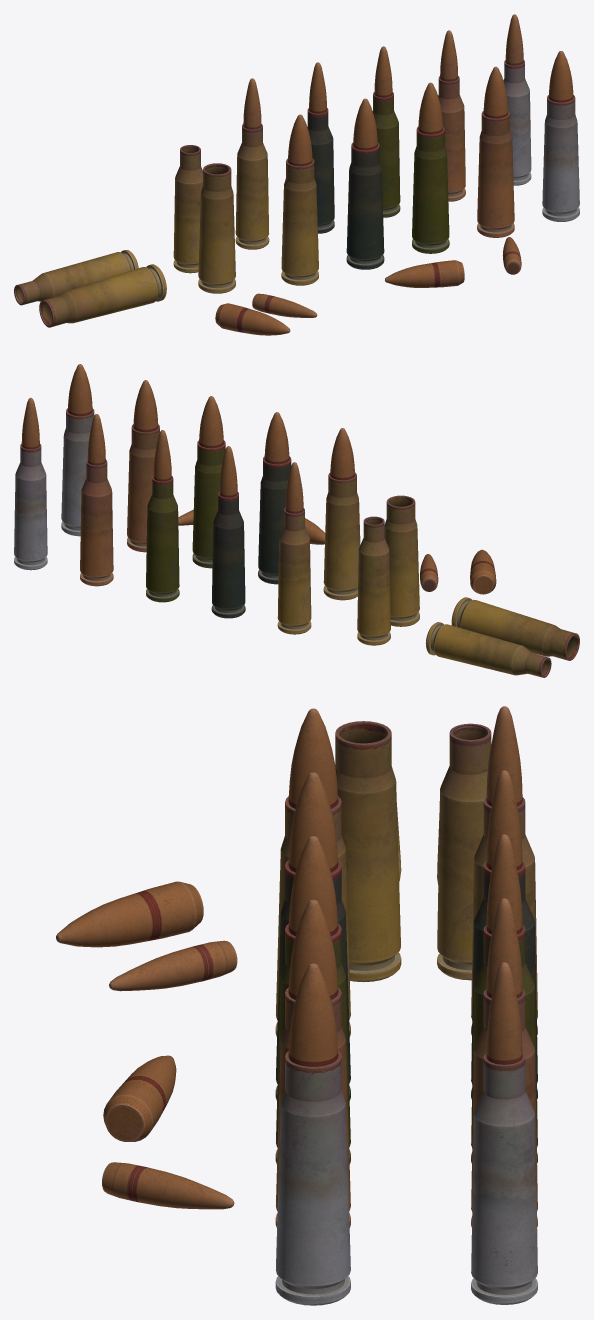
Rendered from ak_rounds_5.45x39_7.62x39.glb.
3 views of the same model, one above another, from view 1: azimuth 30°, elevation 25°; view 2: azimuth 150°, elevation 25°; view 3: azimuth 270°, elevation 25° (orthographic). The views are drawn at different scales.
Visible parts, largest first — view 1: 7_62_39mm_shell.002, 5_45_39mm_bullet.002, 7_62_39mm_shell.004, 7_62_39mm_shell, 7_62_39mm_shell.003, 7_62_39mm_shell.005, 7_62_39mm_shell.006, 5_45_39mm_shell, 5_45_39mm_shell.006, 5_45_39mm_shell.005, 5_45_39mm_shell.004, 5_45_39mm_shell.003; view 2: 7_62_39mm_shell.002, 5_45_39mm_bullet.002, 7_62_39mm_shell, 5_45_39mm_shell.004, 5_45_39mm_shell.006, 5_45_39mm_shell.005, 5_45_39mm_shell.003, 5_45_39mm_shell, 7_62_39mm_shell.003, 7_62_39mm_shell.004, 7_62_39mm_shell.005, 7_62_39mm_shell.006; view 3: 7_62_39mm_shell.002, 7_62_39mm_shell.006, 5_45_39mm_bullet.002, 5_45_39mm_shell.006, 7_62_39mm_shell, 7_62_39mm_shell.005, 7_62_39mm_shell.004, 7_62_39mm_shell.003, 5_45_39mm_shell.003, 5_45_39mm_shell.004, 5_45_39mm_shell.005, 5_45_39mm_shell.
Boxes of the visible parts, x1,y1,x2,y2 form: 7_62_39mm_shell.002: (39, 163, 464, 335); 5_45_39mm_bullet.002: (14, 145, 521, 317); 7_62_39mm_shell.004: (412, 82, 449, 253); 7_62_39mm_shell: (281, 114, 318, 285); 7_62_39mm_shell.003: (346, 98, 384, 269); 7_62_39mm_shell.005: (477, 66, 514, 237); 7_62_39mm_shell.006: (542, 51, 579, 221); 5_45_39mm_shell: (235, 78, 269, 249); 5_45_39mm_shell.006: (503, 14, 531, 185); 5_45_39mm_shell.005: (438, 30, 465, 201); 5_45_39mm_shell.004: (372, 46, 400, 217); 5_45_39mm_shell.003: (307, 62, 334, 233); 7_62_39mm_shell.002: (305, 495, 579, 660); 5_45_39mm_bullet.002: (178, 510, 551, 677); 7_62_39mm_shell: (323, 428, 360, 600); 5_45_39mm_shell.004: (146, 430, 179, 602); 5_45_39mm_shell.006: (14, 397, 47, 570); 5_45_39mm_shell.005: (80, 414, 113, 586); 5_45_39mm_shell.003: (211, 446, 245, 618); 5_45_39mm_shell: (277, 462, 311, 634); 7_62_39mm_shell.003: (258, 412, 291, 584); 7_62_39mm_shell.004: (192, 396, 225, 568); 7_62_39mm_shell.005: (127, 380, 159, 552); 7_62_39mm_shell.006: (61, 364, 94, 536); 7_62_39mm_shell.002: (56, 721, 401, 1141); 7_62_39mm_shell.006: (275, 963, 350, 1305); 5_45_39mm_bullet.002: (102, 723, 491, 1209); 5_45_39mm_shell.006: (471, 962, 537, 1304); 7_62_39mm_shell: (275, 708, 350, 1036); 7_62_39mm_shell.005: (275, 899, 350, 1227); 7_62_39mm_shell.004: (275, 836, 350, 1164); 7_62_39mm_shell.003: (275, 772, 350, 1100); 5_45_39mm_shell.003: (471, 770, 537, 1099); 5_45_39mm_shell.004: (471, 834, 537, 1163); 5_45_39mm_shell.005: (471, 898, 537, 1227); 5_45_39mm_shell: (471, 706, 537, 1035).
Size of the model in its own units: 0.4408 by 0.1339 by 0.1772.
Materials: 10 (10 with a texture image).
